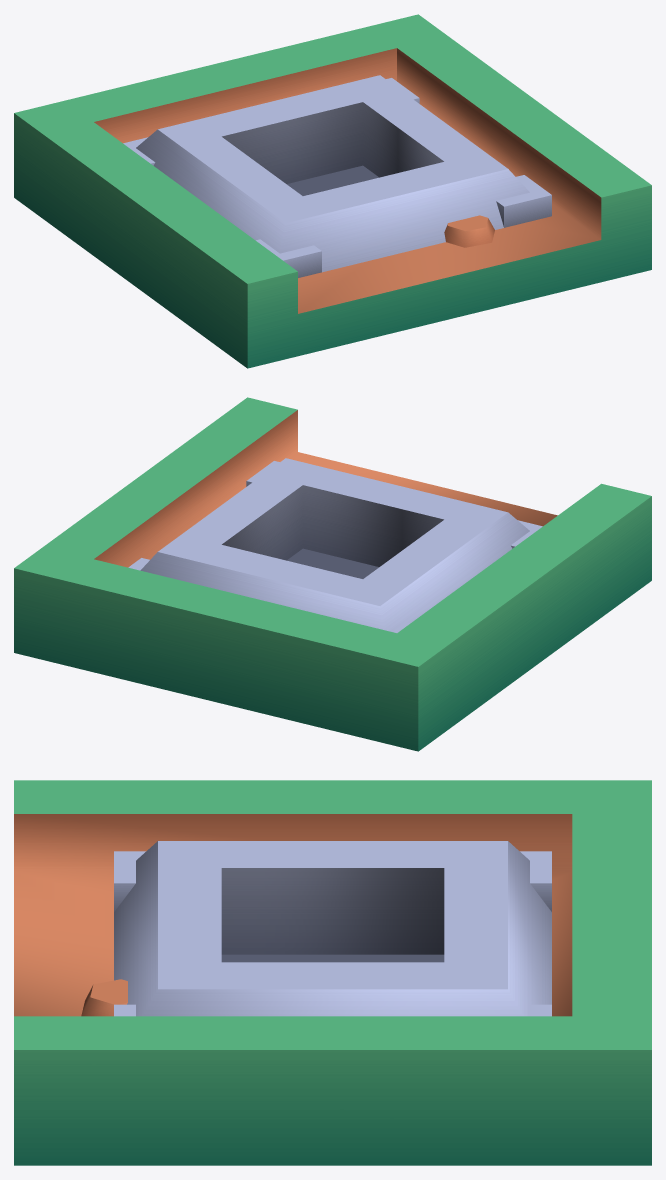
File: tile-spawn-end.fbx
The picture shows the model from 3 angles, top to bottom: view 1: azimuth 30°, elevation 25°; view 2: azimuth 150°, elevation 25°; view 3: azimuth 270°, elevation 25°; orthographic projection. The views are drawn at different scales.
Visible parts, largest first — view 1: tile-spawn-end; view 2: tile-spawn-end; view 3: tile-spawn-end.
Part boxes in pixels (x1,y1,x2,y2): tile-spawn-end: (14, 14, 651, 368); tile-spawn-end: (14, 397, 651, 751); tile-spawn-end: (14, 780, 651, 1165).
Bounding box in the file's own units: 100 × 20 × 100.
